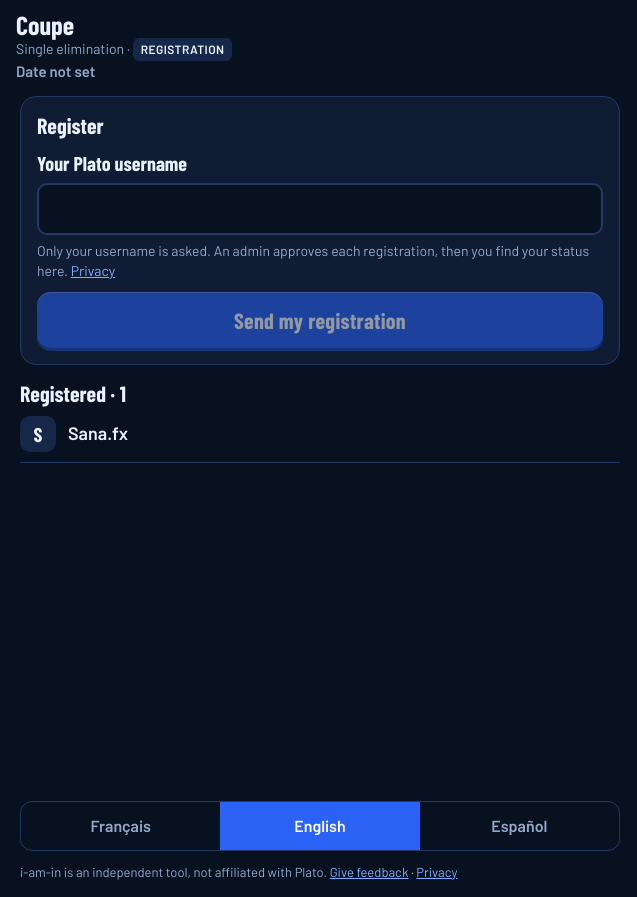
Test case: page des joueurs › le joueur peut en changer pour lui-même, et son choix reste sur son appareil
What coordinates should you click on to do the following:
click the button "Español"
I would click on:
 (519, 826)
Its box is [420,802,619,850].
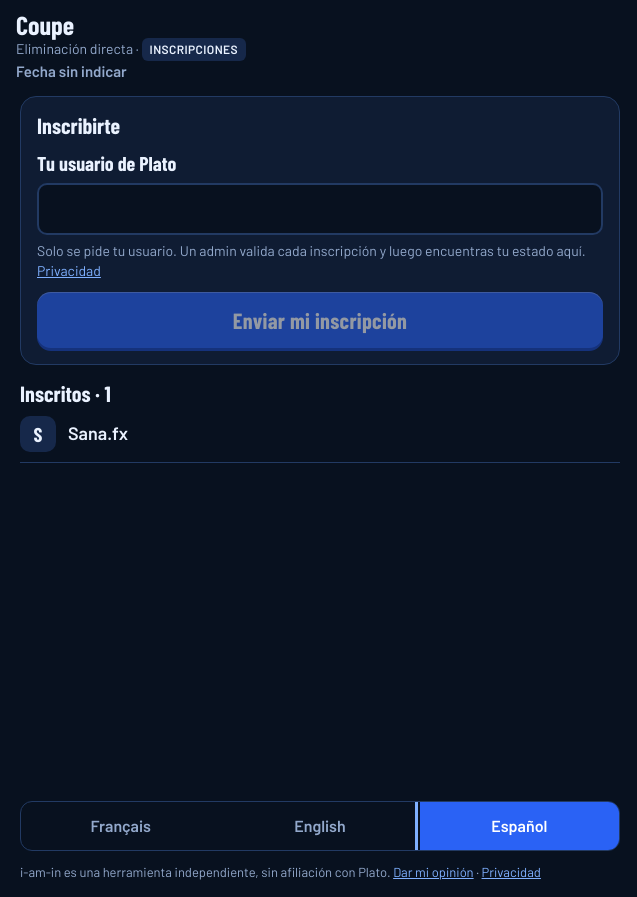
Expected: the heading "Inscritos · 1" is shown, [20,380,111,406]
